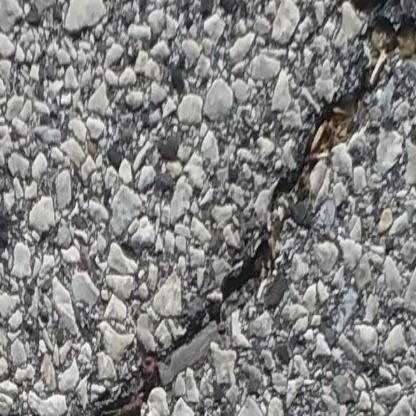Cracks: (72, 0, 416, 416), (0, 399, 34, 416)
